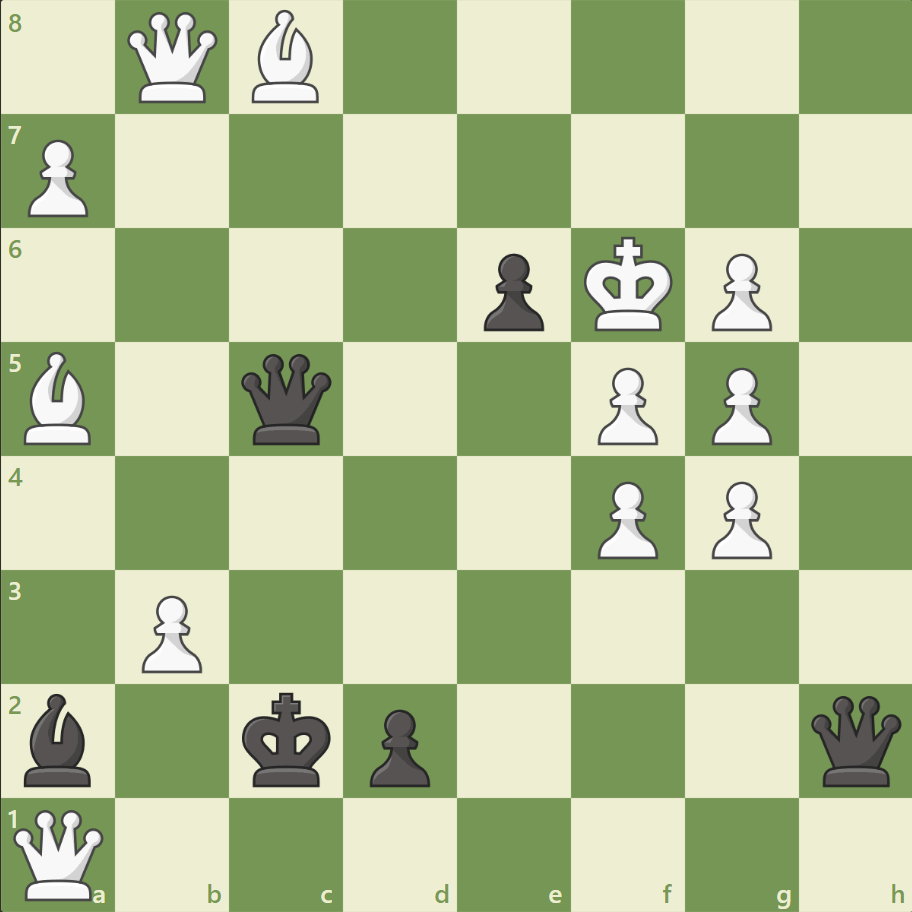B: (244, 6, 328, 109), (17, 347, 101, 449)
K: (579, 231, 679, 339)
P: (20, 132, 95, 223), (701, 246, 776, 337), (701, 359, 776, 450), (701, 473, 776, 564), (133, 586, 208, 677), (588, 359, 662, 450), (588, 473, 662, 564)
Q: (124, 9, 223, 108), (10, 804, 109, 903)
b: (17, 687, 101, 790)
k: (238, 685, 338, 793)
p: (474, 246, 549, 337), (361, 700, 435, 791)
q: (237, 349, 336, 449), (805, 690, 904, 789)
